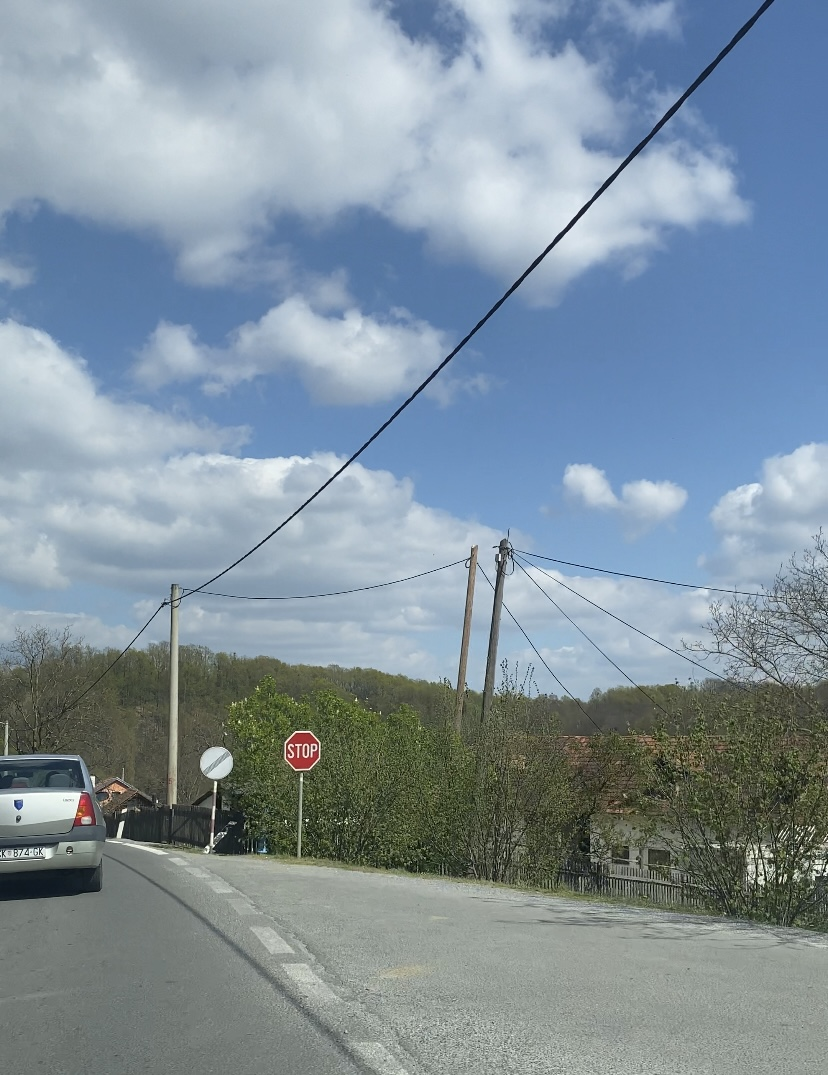Obavezno zaustavljanje: (284, 731, 321, 771)
